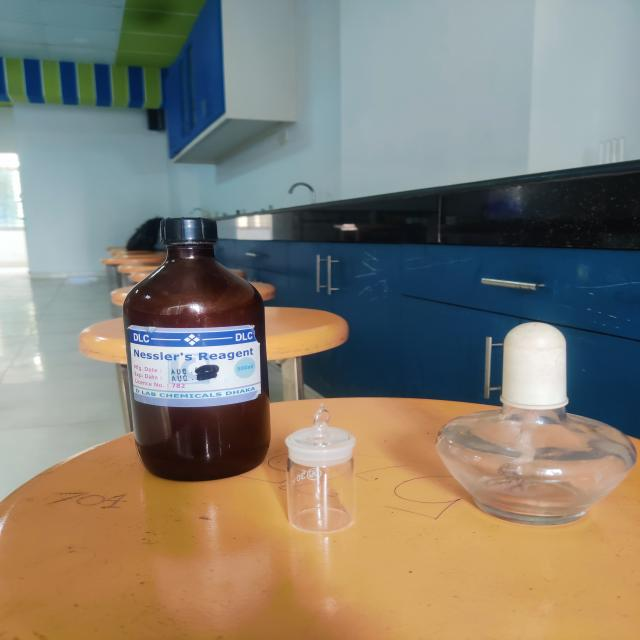Nessler_Reagent_Bottle: (88, 205, 277, 489)
Spirit_Lamp: (410, 301, 640, 553)
Weighing_Bottle: (273, 387, 374, 550)
